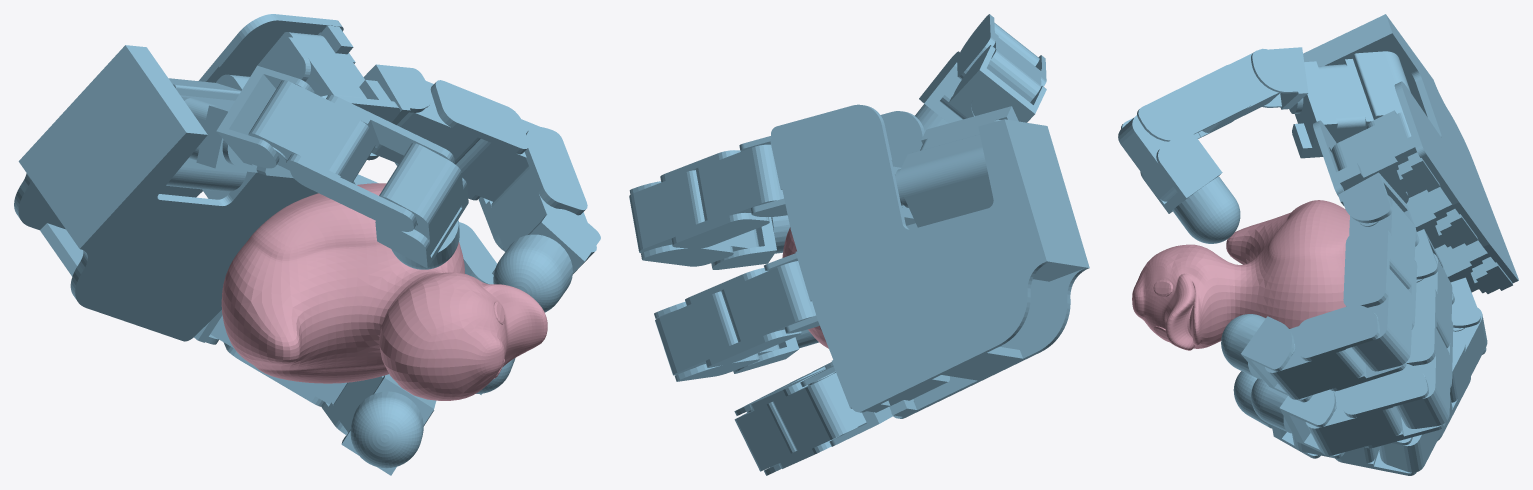
The picture shows the model from 3 angles, left to right: view 1: azimuth 30°, elevation 25°; view 2: azimuth 150°, elevation 25°; view 3: azimuth 270°, elevation 25°; orthographic projection. The views are drawn at different scales.
Parts seen in each view (by area): view 1: world; view 2: world; view 3: world.
Part boxes in pixels (x1,y1,x2,y2): world: [14, 14, 600, 475]; world: [629, 14, 1089, 475]; world: [1118, 14, 1518, 475].
Size of the model in its own units: 0.1947 by 0.1661 by 0.1657.
